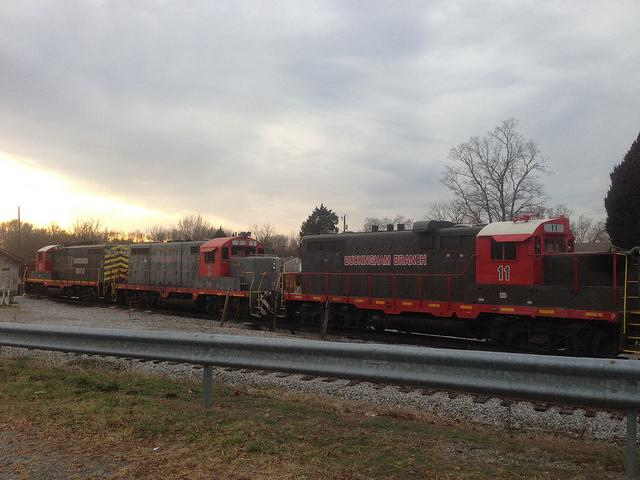Train: (21, 209, 638, 364)
